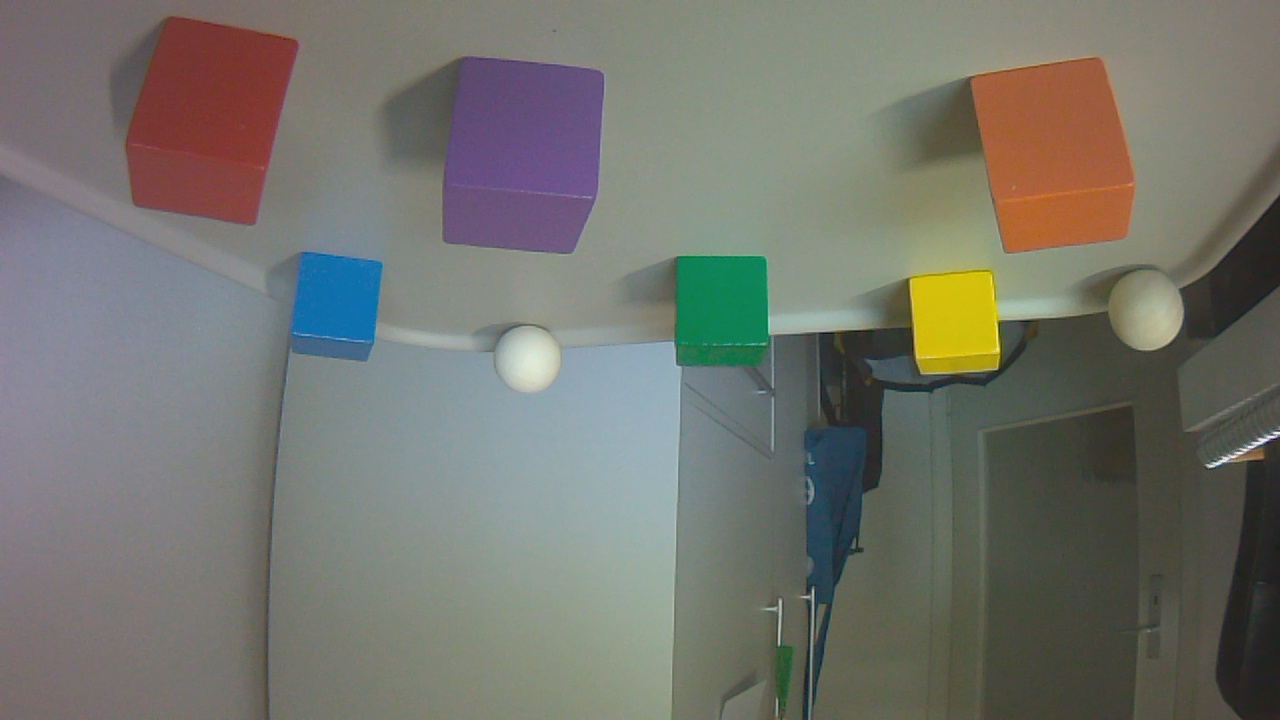ball: (1112, 272, 1191, 358), (499, 328, 568, 401)
cube_blue: (291, 254, 390, 369)
cube_green: (677, 261, 776, 373)
cube_orange: (974, 57, 1140, 261)
cube_purple: (445, 60, 611, 261)
cube_red: (130, 19, 304, 232)
cube_yellow: (911, 273, 1006, 381)
